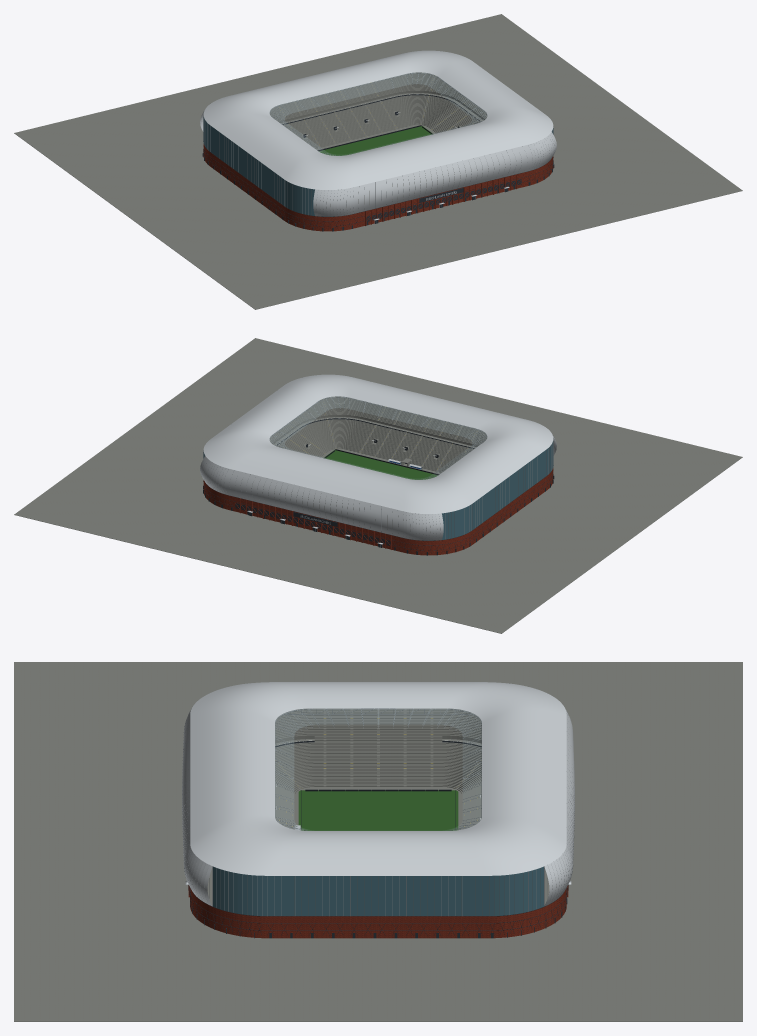
File: stadium_shell.glb
3 renders of one model, top to bottom at view 1: azimuth 30°, elevation 25°; view 2: azimuth 150°, elevation 25°; view 3: azimuth 270°, elevation 25°, orthographic. The views are drawn at different scales.
Parts seen in each view (by area): view 1: ExteriorPlaza_Concrete, RoofCanopy_Roof, Exterior_Roof, Interior_West_Concrete, Exterior_Brick, Exterior_FacadeGlass, RoofCanopy_Glass, Interior_NorthWest_Concrete, Exterior_Dark, Apron_Apron, Exterior_Steel, Interior_North_Concrete (+1 smaller); view 2: ExteriorPlaza_Concrete, RoofCanopy_Roof, Exterior_Roof, Interior_East_Concrete, Exterior_Brick, Exterior_FacadeGlass, RoofCanopy_Glass, Interior_NorthEast_Concrete, Exterior_Dark, Apron_Apron, Exterior_Steel, Interior_North_Concrete (+1 smaller); view 3: ExteriorPlaza_Concrete, RoofCanopy_Roof, Exterior_FacadeGlass, Interior_South_Concrete, Exterior_Brick, RoofCanopy_Glass, Apron_Apron, Exterior_Roof, Interior_SouthWest_Concrete, Interior_SouthEast_Concrete, Exterior_Steel, RoofStructure_Steel (+3 smaller).
Boxes of the visible parts, bbox=[...] form: ExteriorPlaza_Concrete: bbox=[14, 14, 742, 309]; RoofCanopy_Roof: bbox=[203, 50, 553, 189]; Exterior_Roof: bbox=[200, 112, 556, 220]; Interior_West_Concrete: bbox=[269, 79, 410, 148]; Exterior_Brick: bbox=[203, 144, 553, 231]; Exterior_FacadeGlass: bbox=[203, 117, 553, 215]; RoofCanopy_Glass: bbox=[270, 73, 486, 155]; Interior_NorthWest_Concrete: bbox=[385, 72, 464, 127]; Exterior_Dark: bbox=[202, 141, 554, 231]; Apron_Apron: bbox=[319, 126, 433, 155]; Exterior_Steel: bbox=[203, 114, 554, 223]; Interior_North_Concrete: bbox=[428, 97, 486, 133]; ExteriorPlaza_Concrete: bbox=[14, 338, 742, 633]; RoofCanopy_Roof: bbox=[203, 374, 553, 513]; Exterior_Roof: bbox=[200, 436, 556, 544]; Interior_East_Concrete: bbox=[346, 403, 487, 472]; Exterior_Brick: bbox=[203, 468, 553, 555]; Exterior_FacadeGlass: bbox=[203, 441, 553, 539]; RoofCanopy_Glass: bbox=[270, 397, 486, 479]; Interior_NorthEast_Concrete: bbox=[292, 396, 371, 451]; Exterior_Dark: bbox=[203, 465, 554, 555]; Apron_Apron: bbox=[323, 450, 437, 479]; Exterior_Steel: bbox=[200, 437, 554, 547]; Interior_North_Concrete: bbox=[270, 421, 328, 457]; ExteriorPlaza_Concrete: bbox=[14, 662, 742, 1021]; RoofCanopy_Roof: bbox=[190, 682, 566, 875]; Exterior_FacadeGlass: bbox=[213, 866, 543, 915]; Interior_South_Concrete: bbox=[314, 708, 442, 787]; Exterior_Brick: bbox=[188, 885, 568, 938]; RoofCanopy_Glass: bbox=[275, 709, 481, 830]; Apron_Apron: bbox=[298, 790, 458, 830]; Exterior_Roof: bbox=[182, 710, 574, 905]; Interior_SouthWest_Concrete: bbox=[442, 708, 481, 795]; Interior_SouthEast_Concrete: bbox=[275, 708, 314, 795]; Exterior_Steel: bbox=[182, 712, 574, 916]; RoofStructure_Steel: bbox=[275, 708, 481, 830].
Size of the model in its own units: 420 by 42.75 by 360.
Materials: 12 (2 with a texture image).
